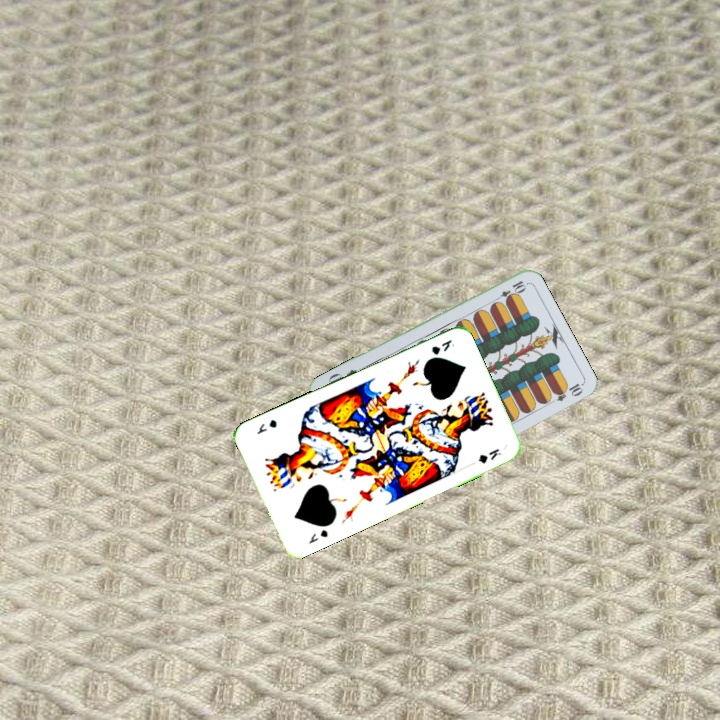E10: (490, 276, 528, 305)
GK: (427, 335, 454, 358), (304, 525, 330, 547)
